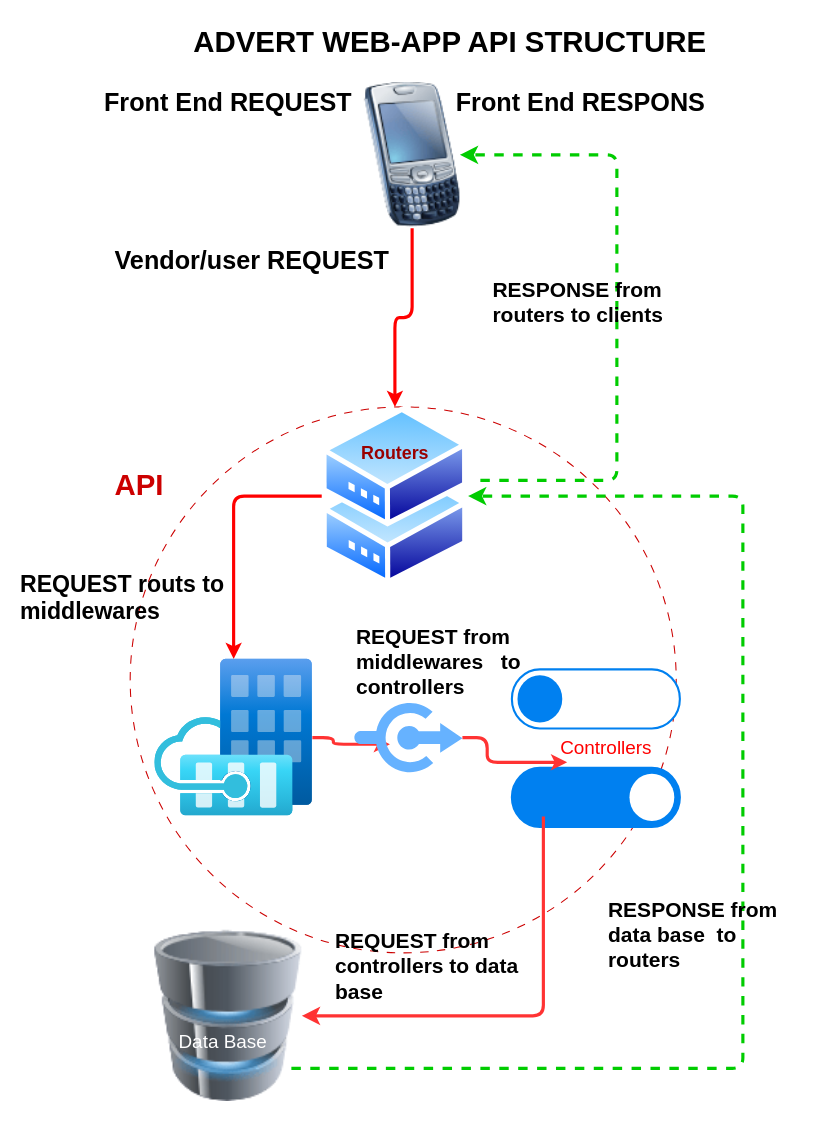
Some shapes in this 823 by 1128 pixel diagram are drawn without their labels. Each missing label, with the centre of its shape:
"CLIENST" belongs at pixel 411 154.
"Middlewares" belongs at pixel 233 737.
